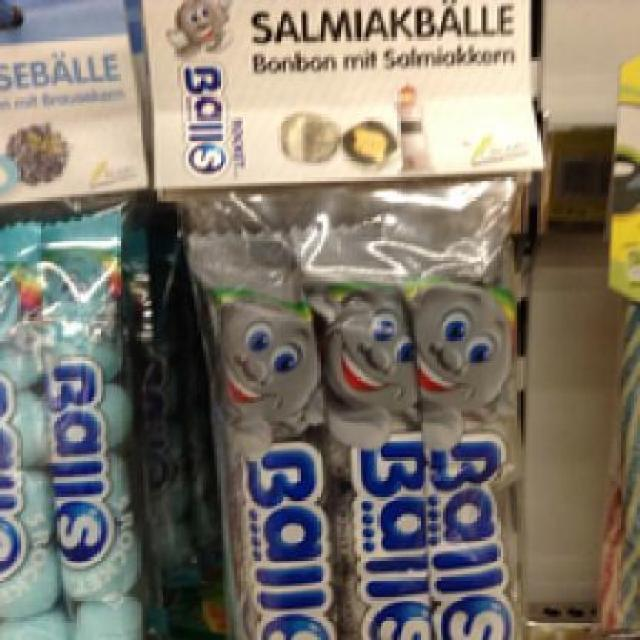Candy: (163, 0, 552, 637), (0, 2, 149, 635)
